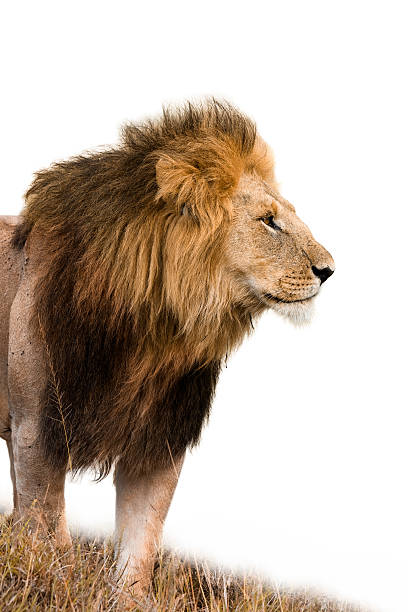lion: (21, 75, 357, 532)
